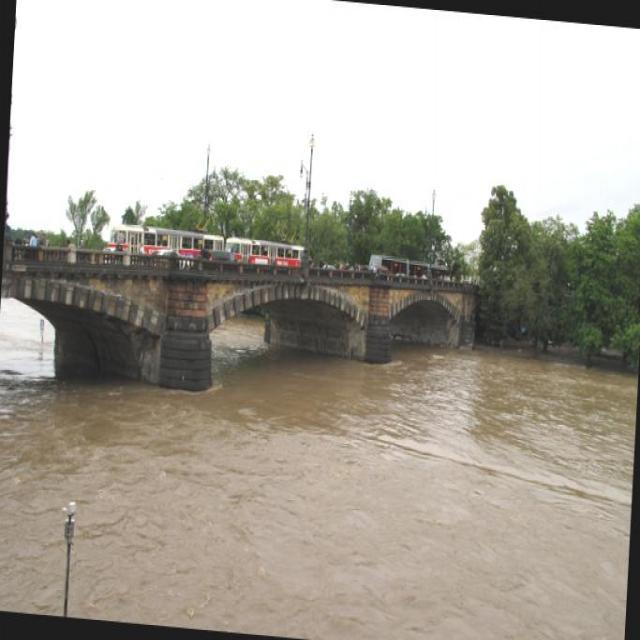flood: (0, 303, 639, 639)
